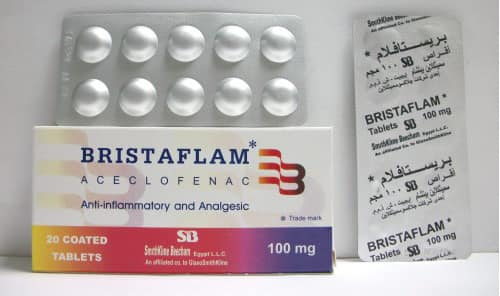Medicine: (27, 123, 336, 274), (351, 8, 473, 267)
